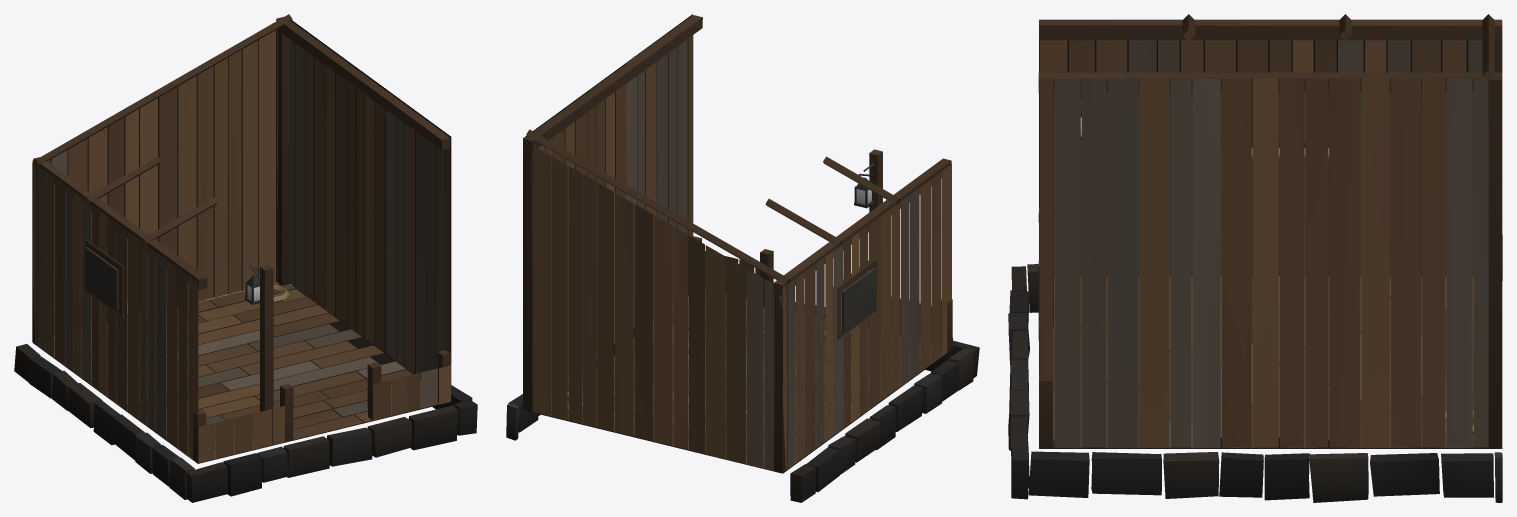
Rendered from ph_int_shed_room.glb.
The picture shows the model from 3 angles, left to right: view 1: azimuth 30°, elevation 25°; view 2: azimuth 150°, elevation 25°; view 3: azimuth 270°, elevation 25°; orthographic projection. The views are drawn at different scales.
Parts seen in each view (by area): view 1: ph_int_shed_room; view 2: ph_int_shed_room; view 3: ph_int_shed_room.
Part boxes in pixels (x1,y1,x2,y2): ph_int_shed_room: (14, 14, 477, 502); ph_int_shed_room: (506, 14, 979, 502); ph_int_shed_room: (1008, 14, 1502, 502).
Size of the model in its own units: 3.45 by 3.42 by 3.63.
